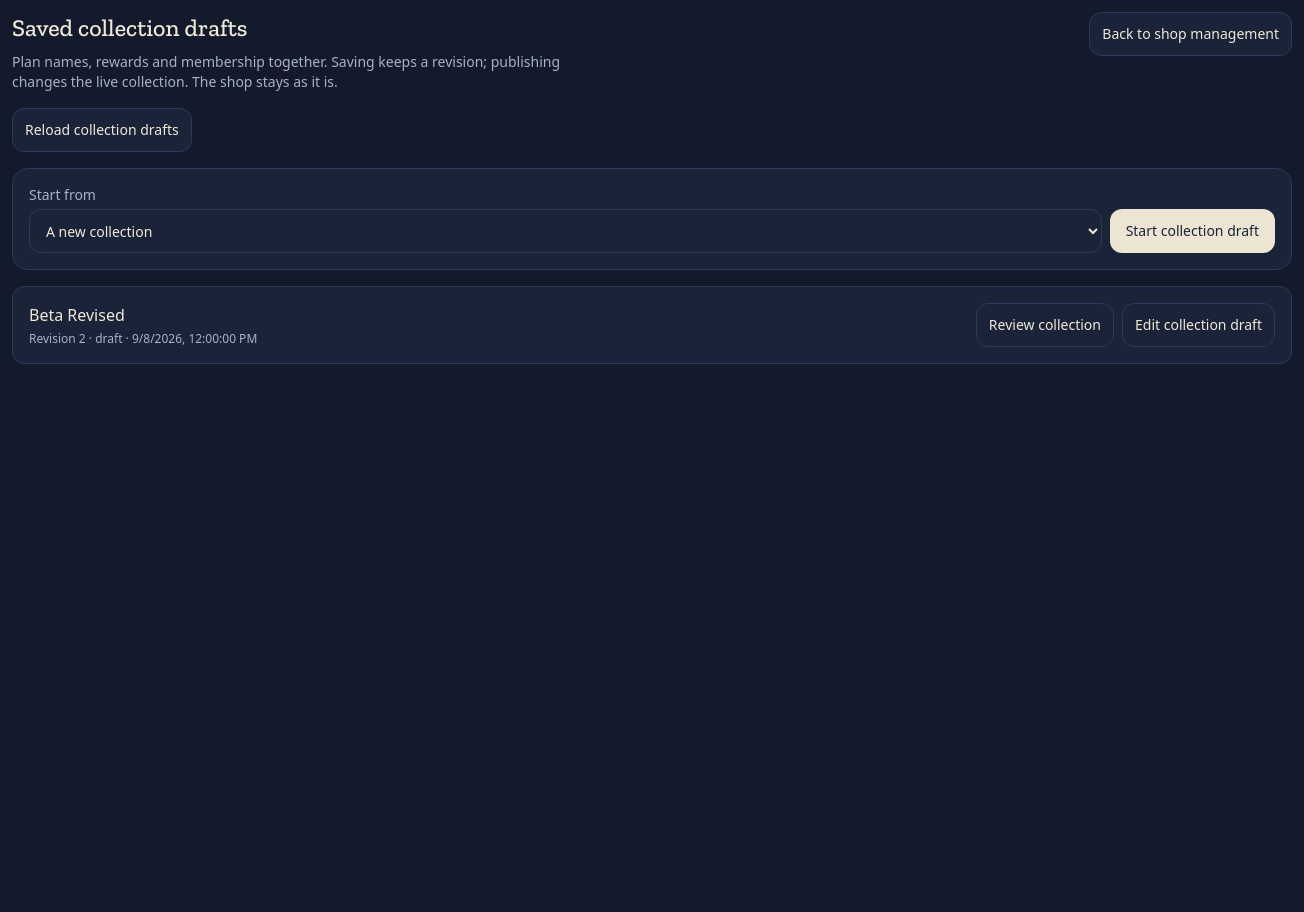
Scenario: saved collection manager › reopens saved membership instead of substituting live membership
The image size is (1304, 912).
Expected: the text "Revision 2 · draft · 9/8/2026, 12:00:00 PM" is shown, [29, 331, 257, 347]
Click the button "Edit collection draft" at x=1198, y=325, box [1122, 303, 1275, 347]
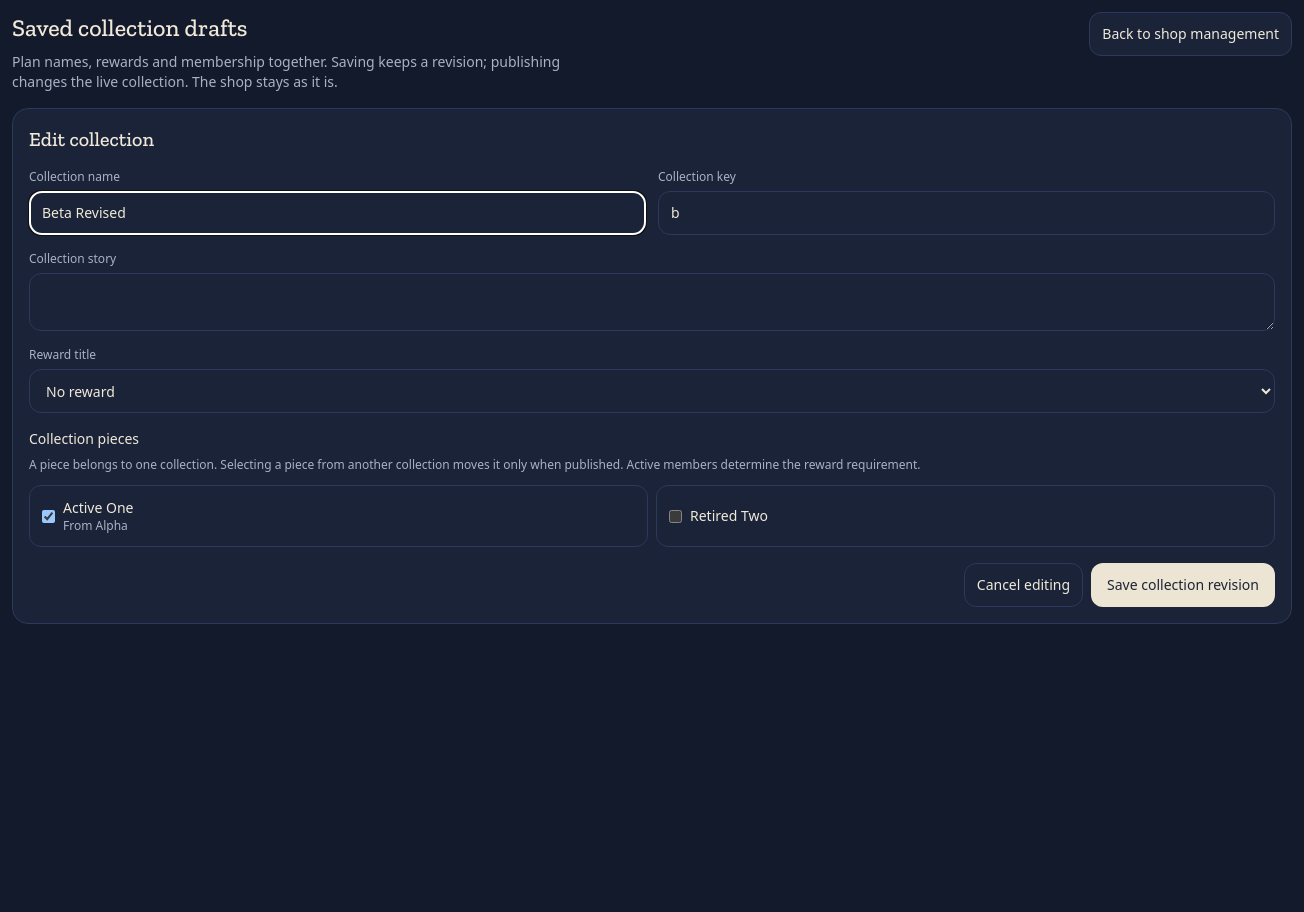
Expected: the checkbox labelled "Active One From Alpha" is checked, [42, 510, 55, 522]
Expected: the checkbox labelled "Retired Two" is not checked, [669, 510, 682, 522]
Replace the text in the field labelled "Collection name" with "New name" at x=338, y=213, box [29, 191, 646, 235]
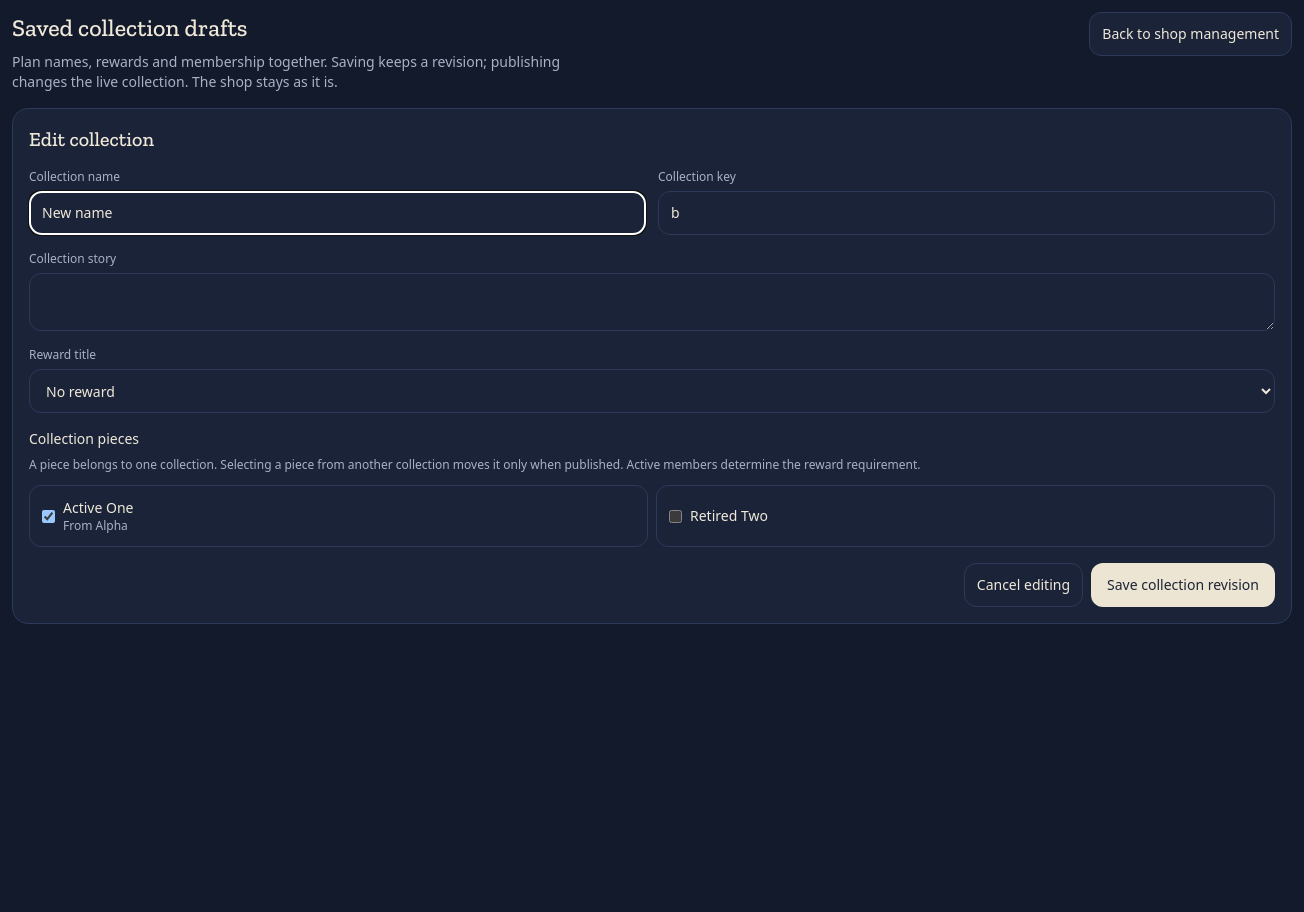
Click the button "Save collection revision" at x=1183, y=585, box [1091, 563, 1275, 607]
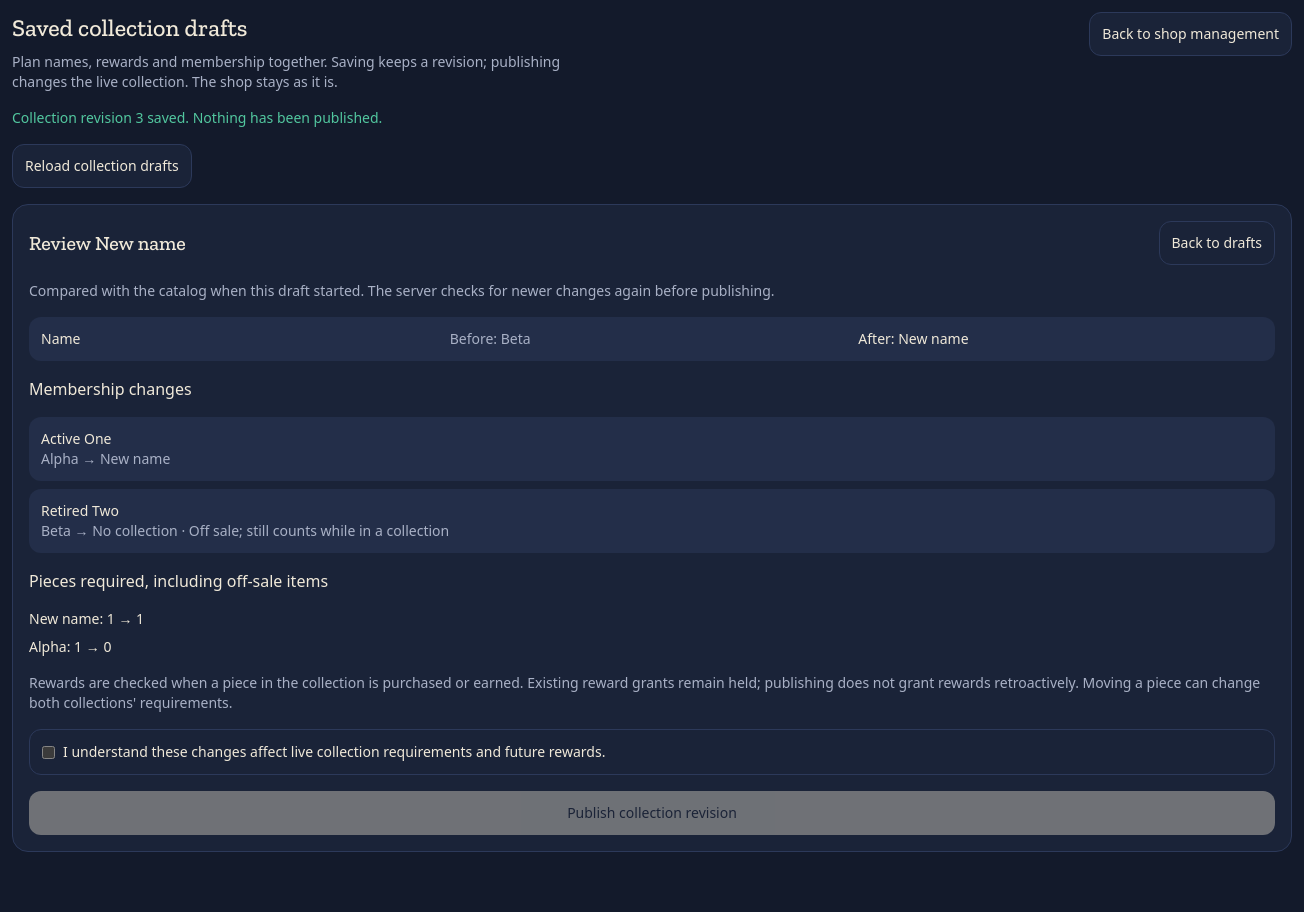
Expected: the text "Collection revision 3 saved. Nothing has been published." is shown, [12, 108, 382, 127]
